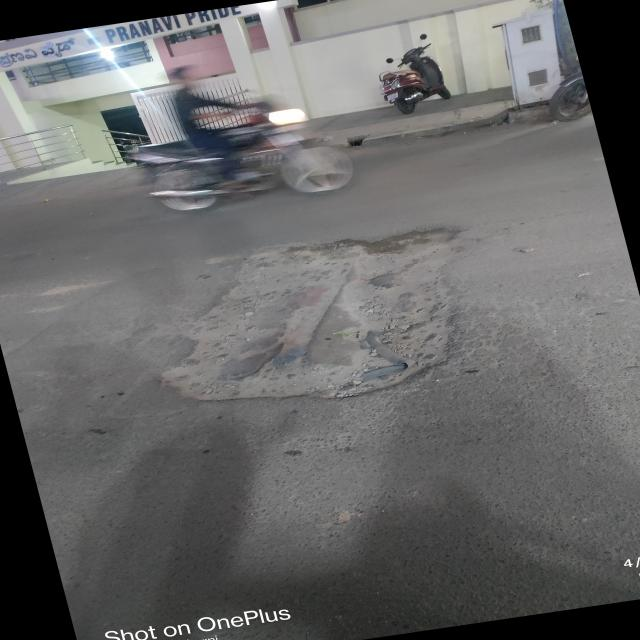potholes: (154, 226, 482, 404)
